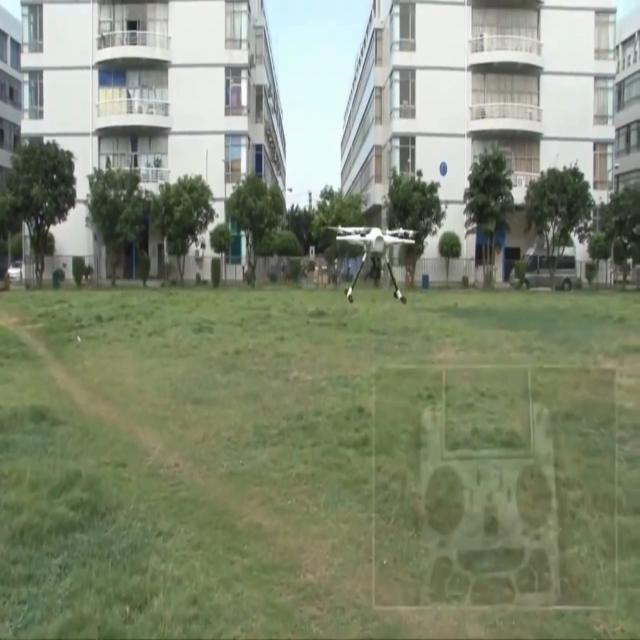drone: (321, 224, 420, 306)
